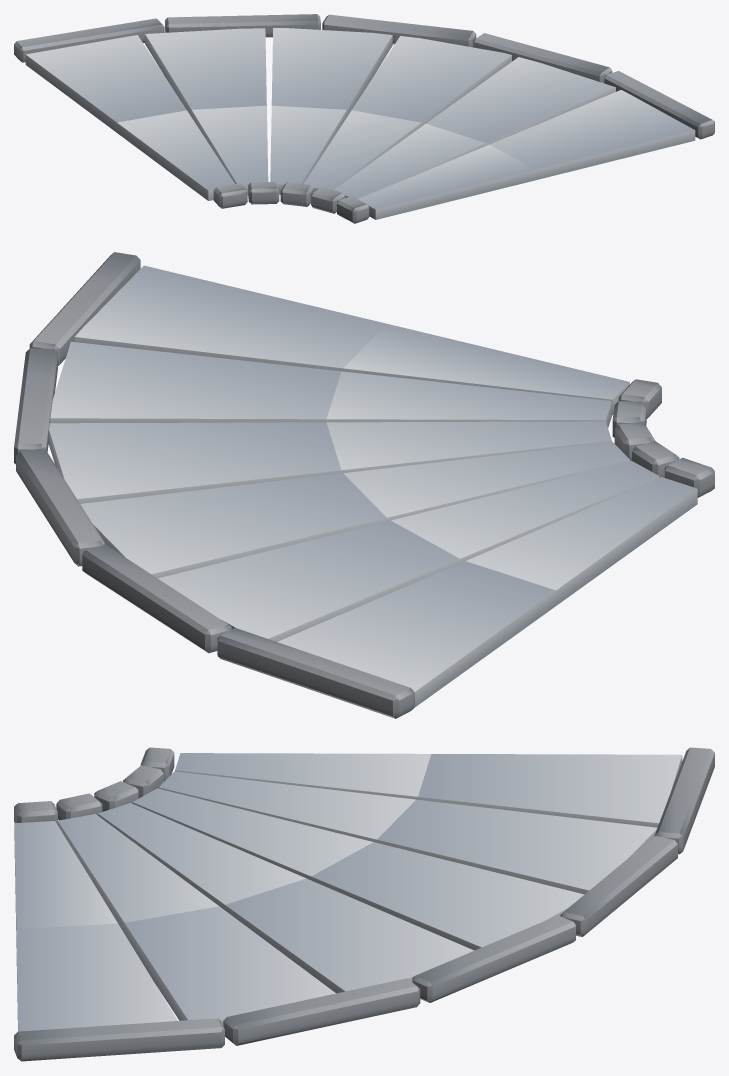
Rendered from ck_path_curve.fbx.
3 views of the same model, one above another, from view 1: azimuth 30°, elevation 25°; view 2: azimuth 150°, elevation 25°; view 3: azimuth 270°, elevation 25° (orthographic). The views are drawn at different scales.
Visible parts, largest first — view 1: ck_path_curve; view 2: ck_path_curve; view 3: ck_path_curve.
Part boxes in pixels (x1,y1,x2,y2): ck_path_curve: [14, 14, 714, 223]; ck_path_curve: [14, 252, 714, 718]; ck_path_curve: [14, 747, 714, 1061].
Size of the model in its own units: 980 by 32.39 by 980.
